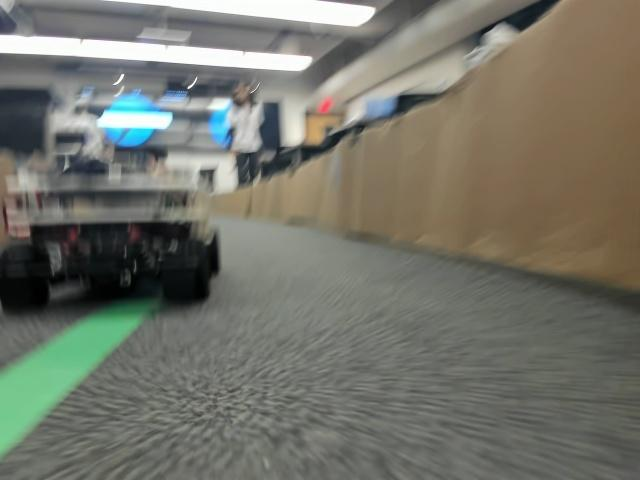Car: (2, 147, 221, 305)
